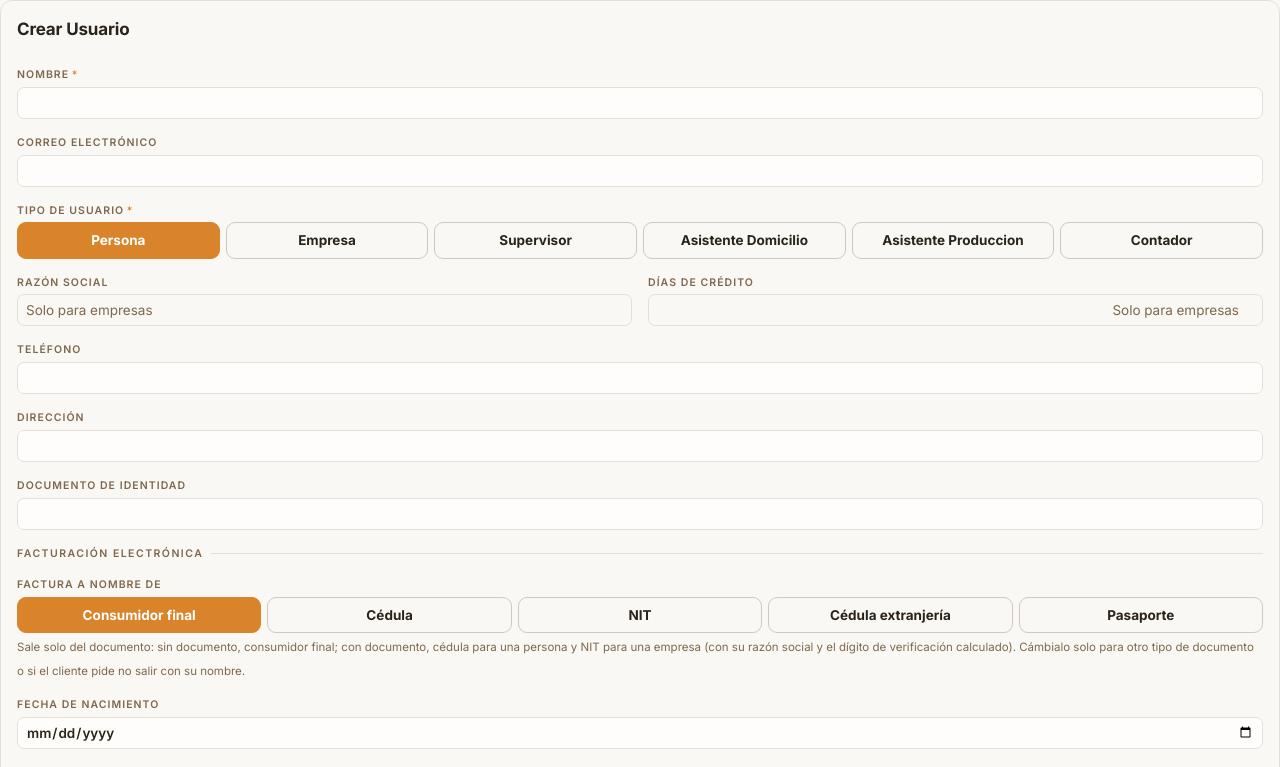
it: BakeryUserForm validation › blocks a staff without email
Click the radio button labelled "Supervisor" at (536, 240), box [434,222,637,259]
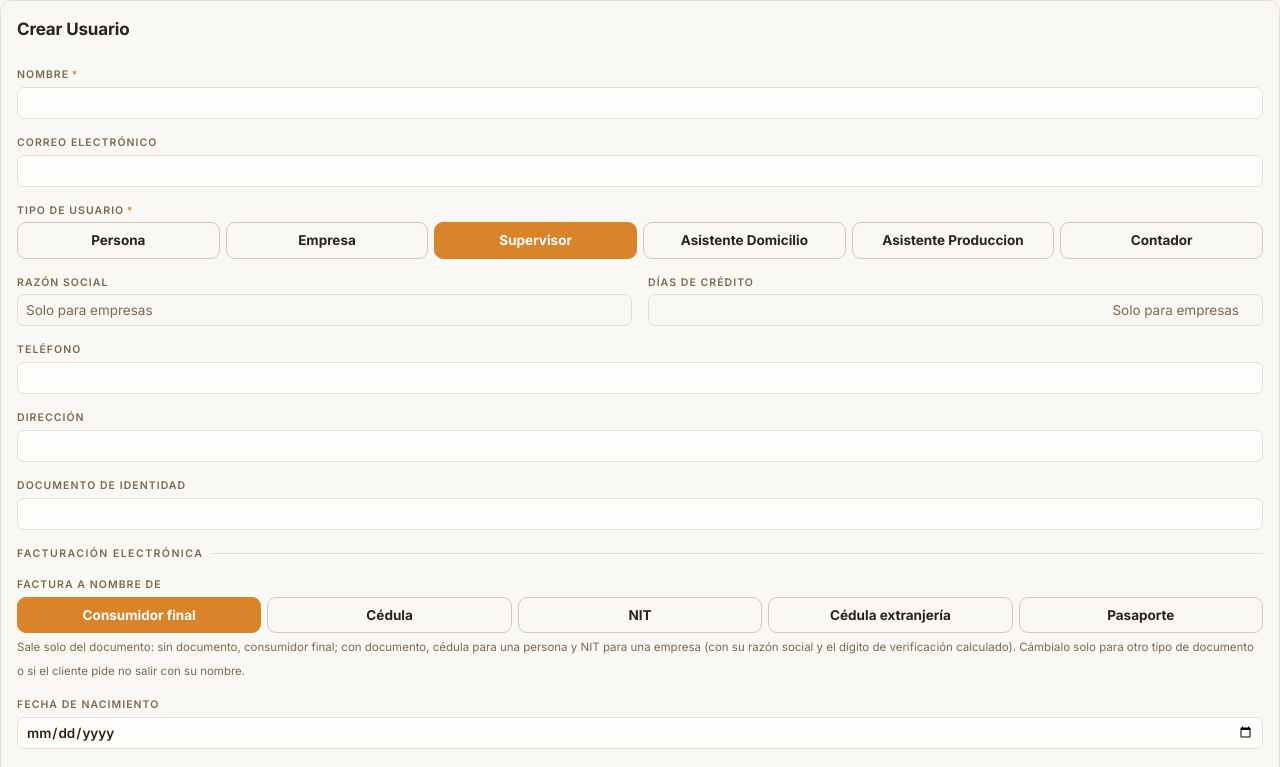
Type "Ana Prueba" into the field labelled "Nombre" at (640, 103), box [17,87,1263,119]
(page scrolled)
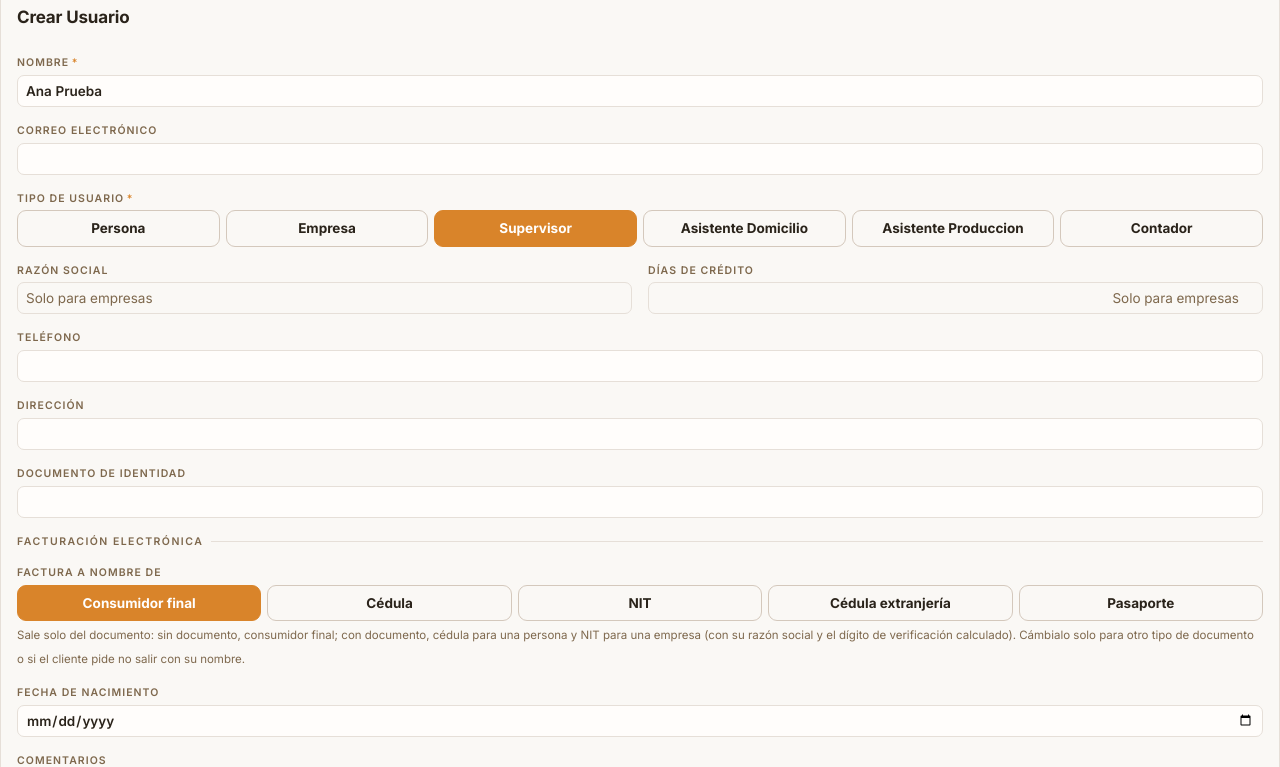
Submit the form
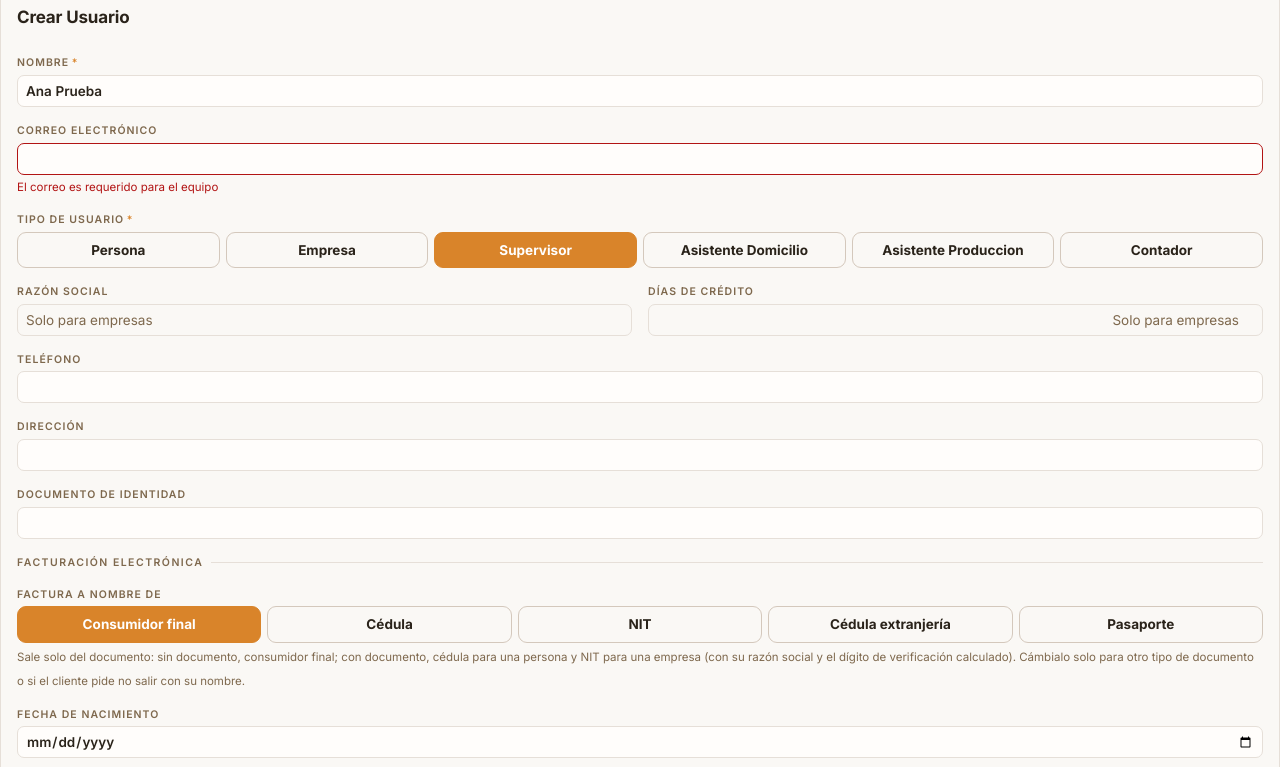
Now the text "El correo es requerido para el equipo" is shown, box [17,180,218,194]
